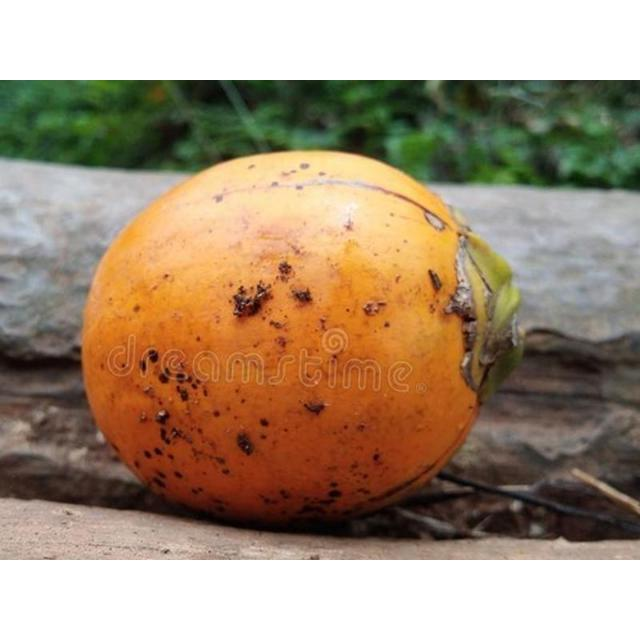good: (79, 150, 525, 536)
